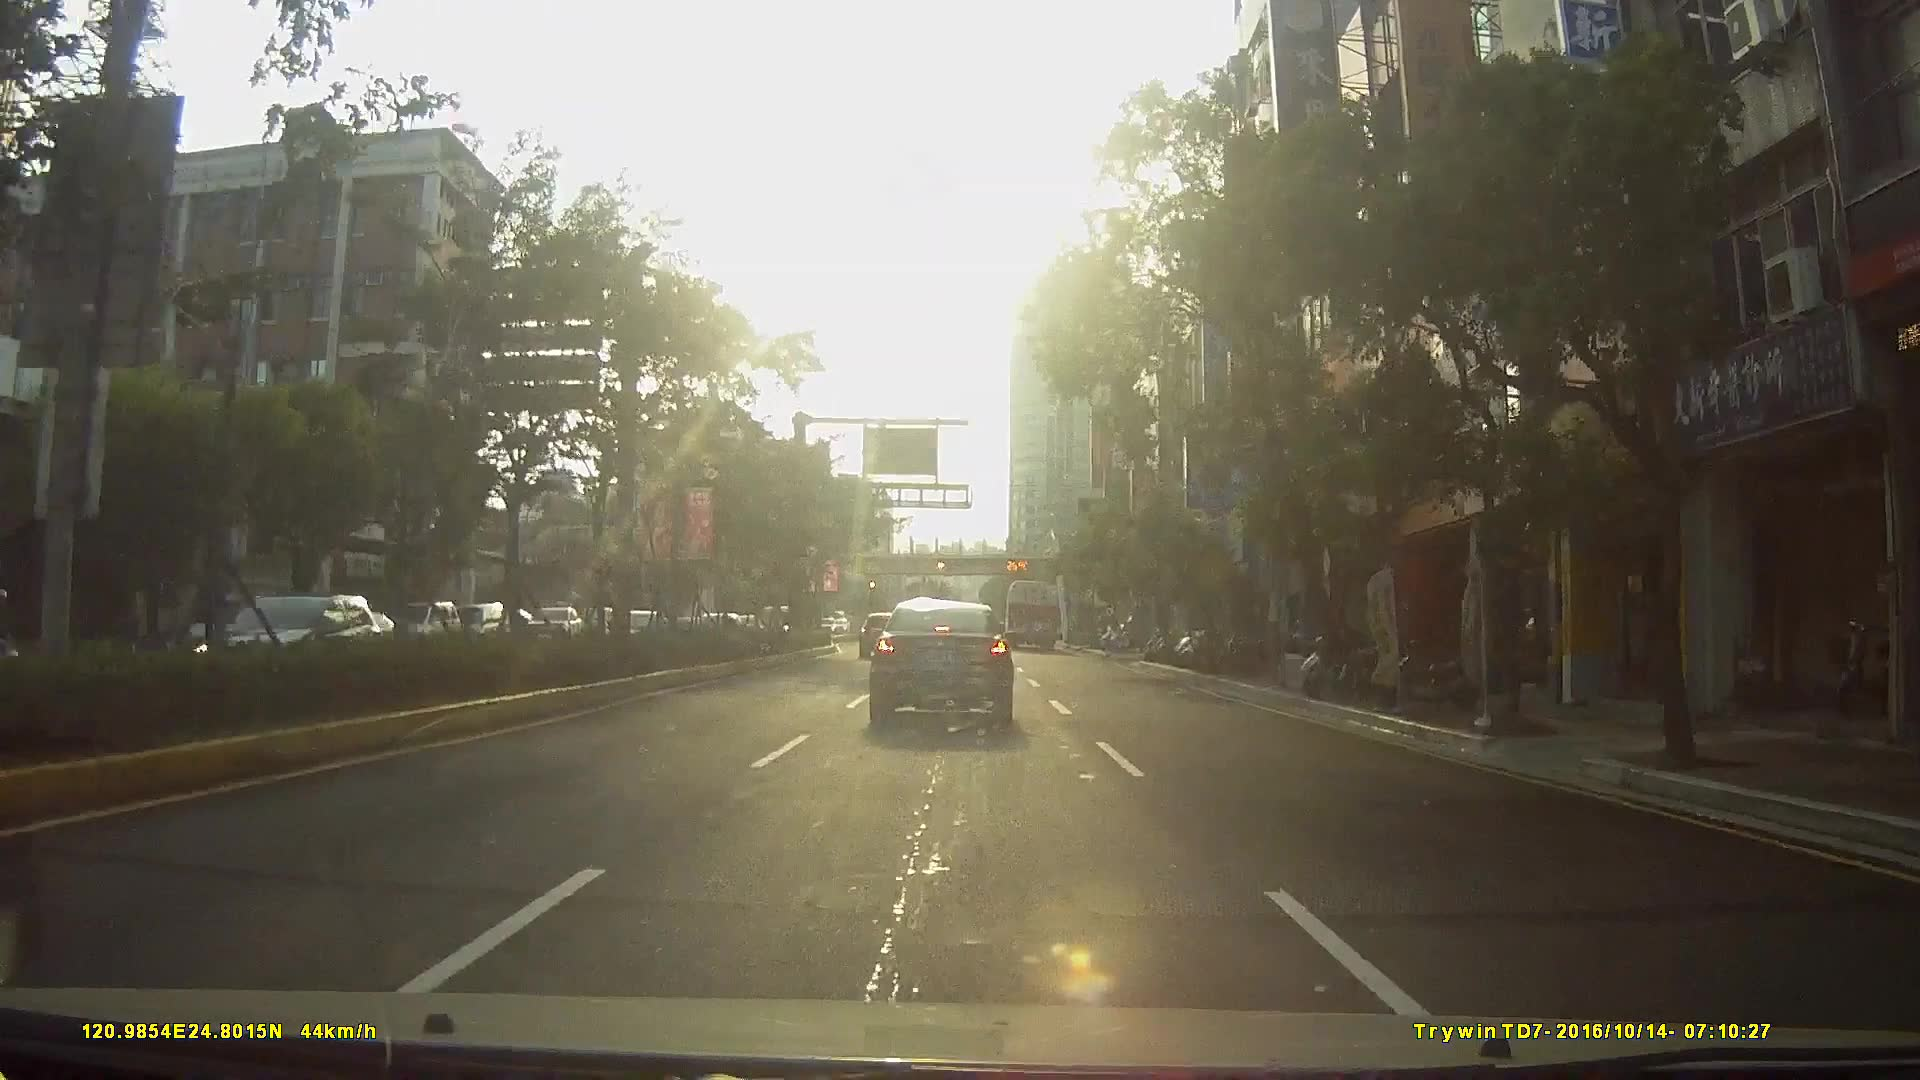vehicle: (189, 592, 396, 692), (864, 597, 1015, 728), (175, 595, 291, 667), (1001, 579, 1062, 651), (390, 603, 458, 651), (442, 603, 506, 651), (524, 607, 582, 645), (858, 611, 899, 659)
